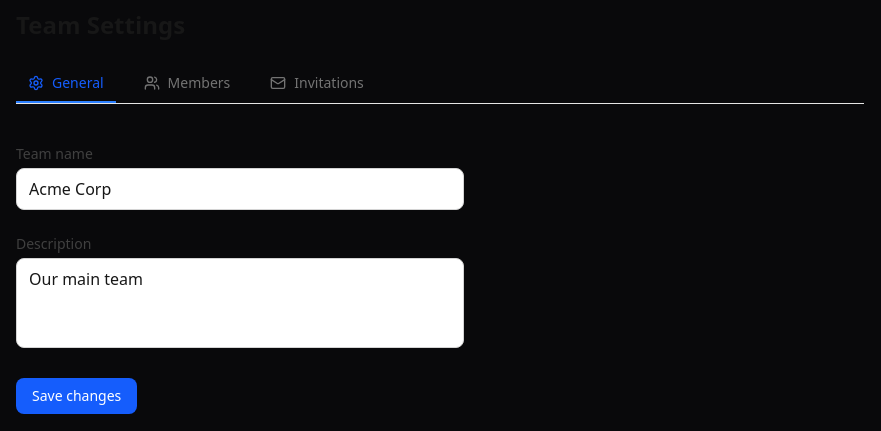
Test case: TeamSettingsPage › Members Tab › should display list of team members
The image size is (881, 431).
Click the tab "Members".
click(187, 84)  # box [132,65,242,103]
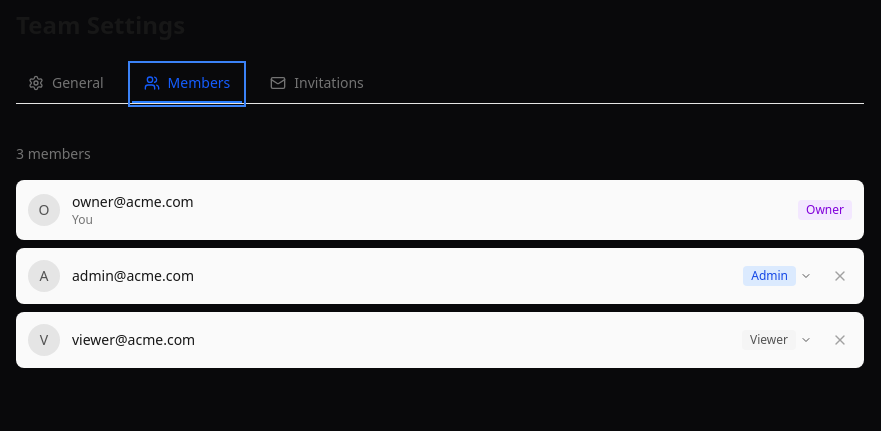
Expected: the text "owner@acme.com" is shown, [72,192,194,212]
Expected: the text "admin@acme.com" is shown, [72,266,194,286]
Expected: the text "viewer@acme.com" is shown, [72,330,195,350]
